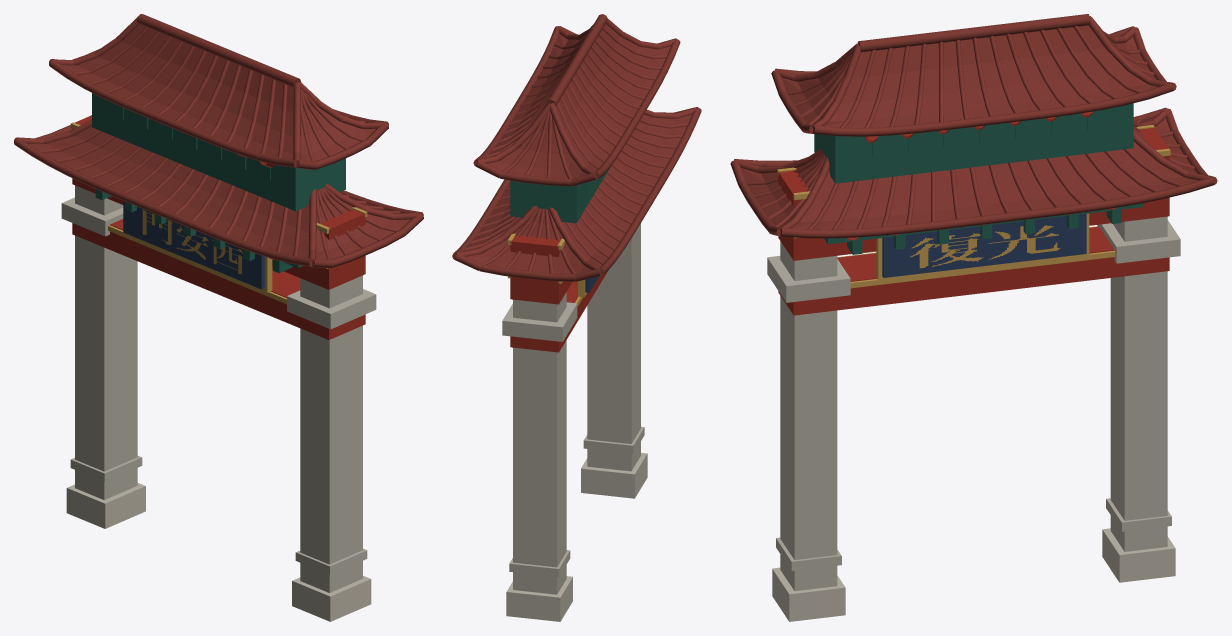
File: nankinmachi-seian.glb
3 views of the same model, side by side, from view 1: azimuth 30°, elevation 25°; view 2: azimuth 150°, elevation 25°; view 3: azimuth 270°, elevation 25° (orthographic). The views are drawn at different scales.
Bounding box in the file's own units: 4.63 × 9.7 × 7.67.
